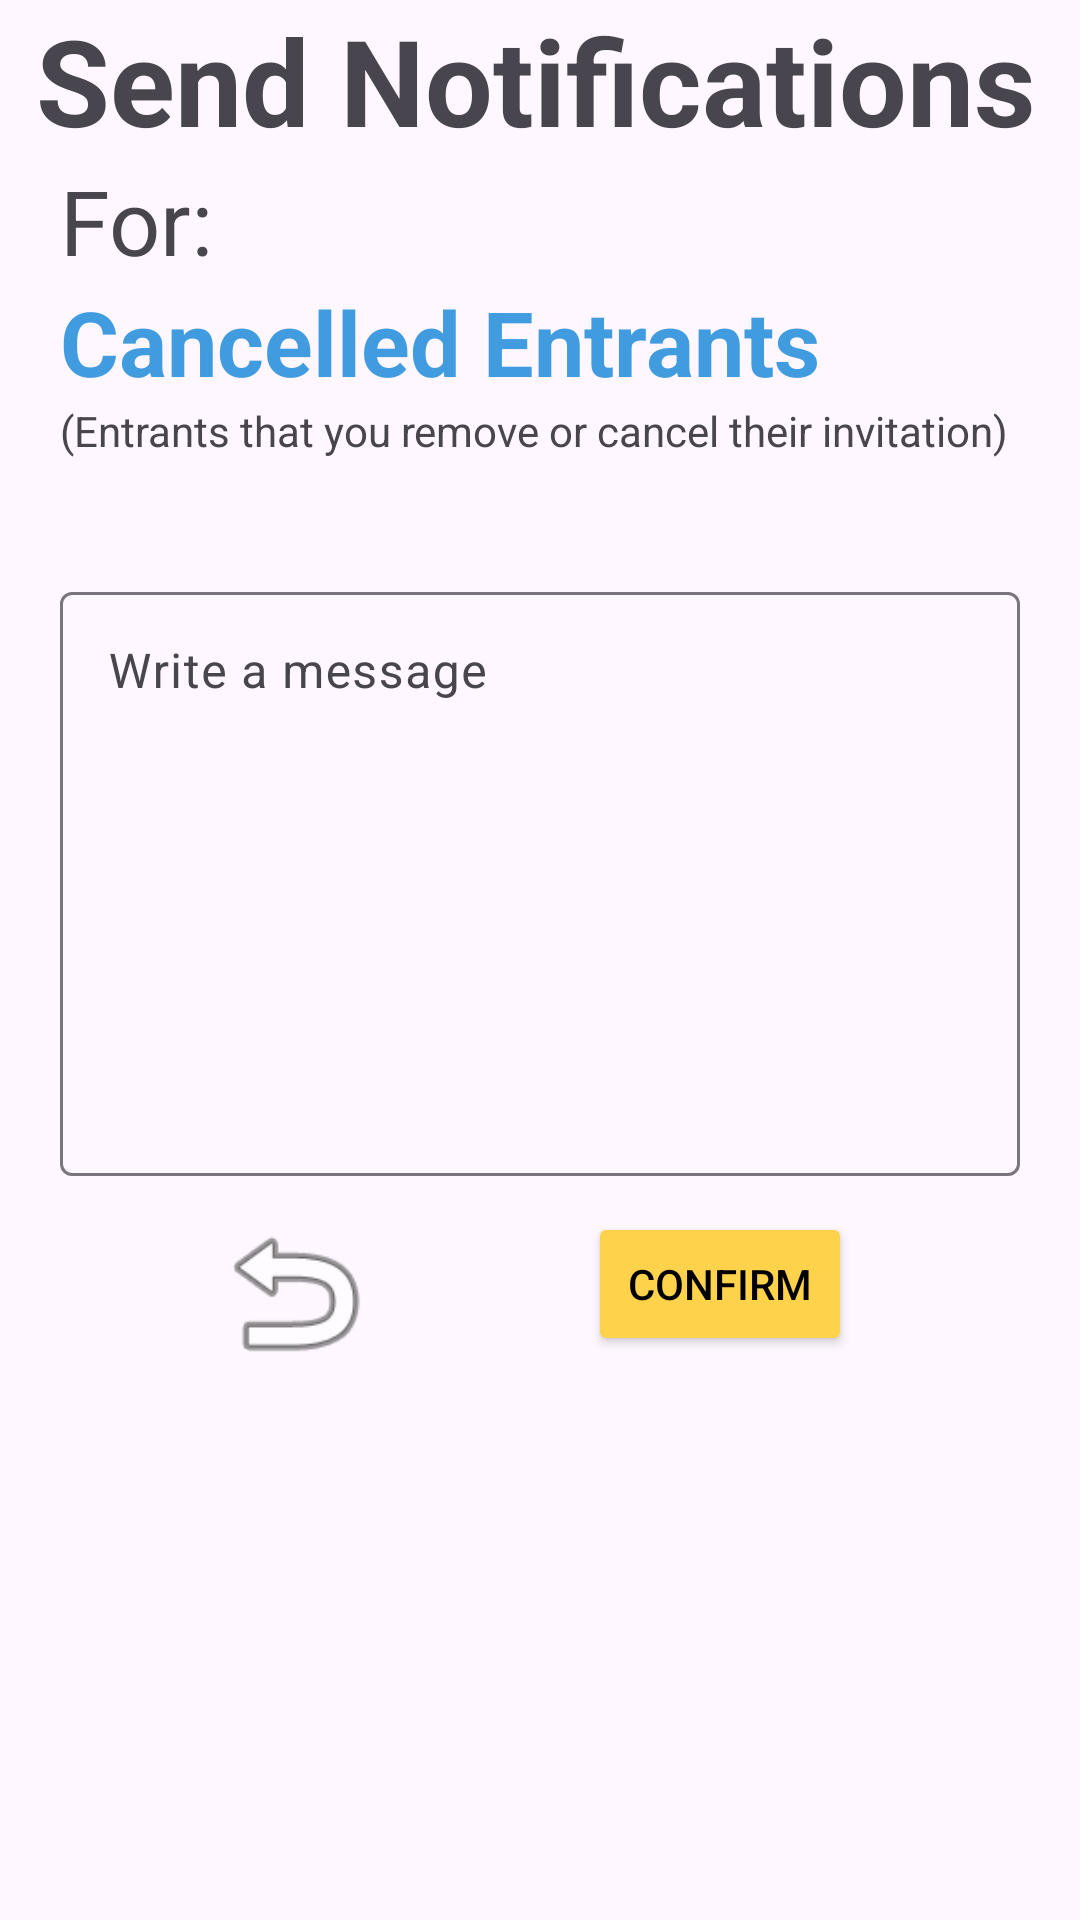

Screen size 1080 x 1920. Icon name, then its box in pixels as (x1, y1, x2, y2):
Back: (234, 1237, 360, 1351)
